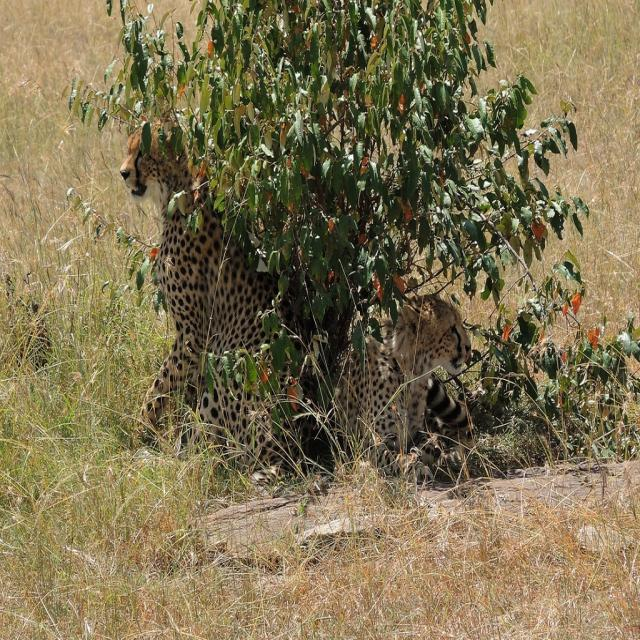Cheetah: (114, 115, 308, 433)
